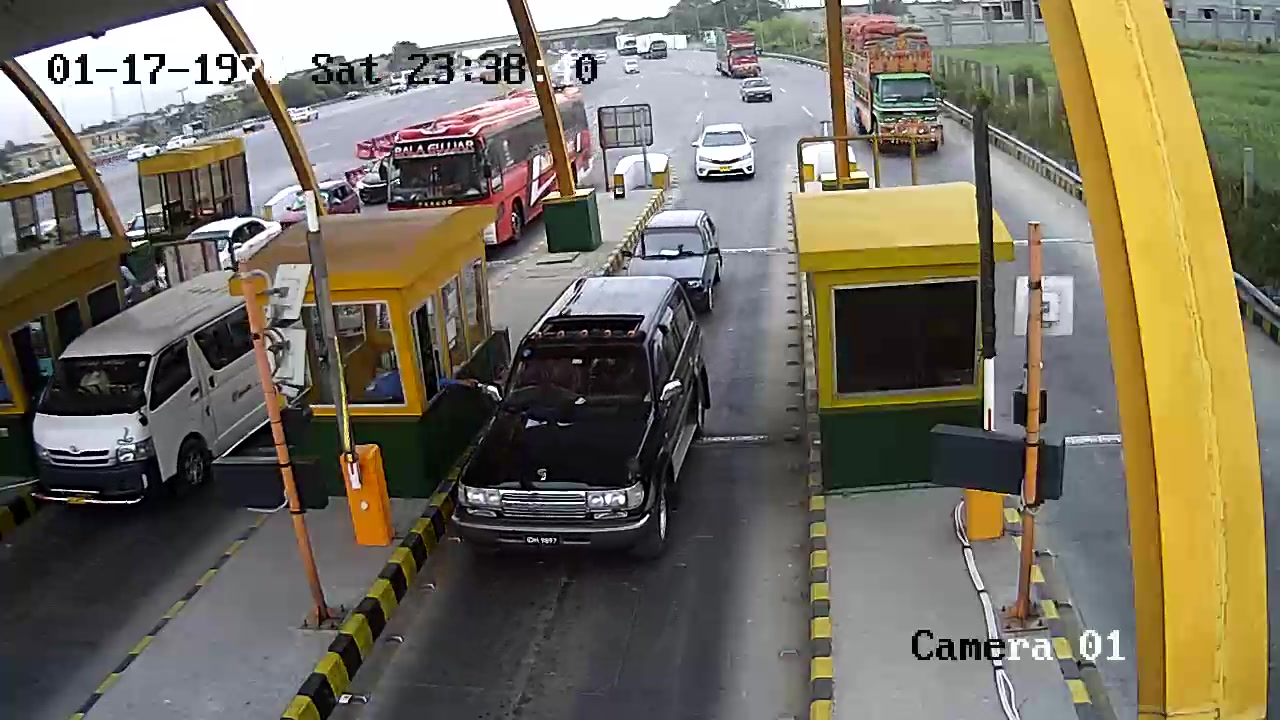F1: (444, 271, 722, 568), (624, 203, 725, 287)
